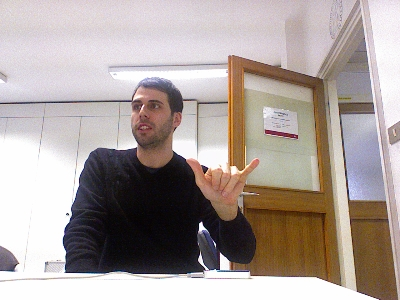六六六: (183, 157, 260, 204)
